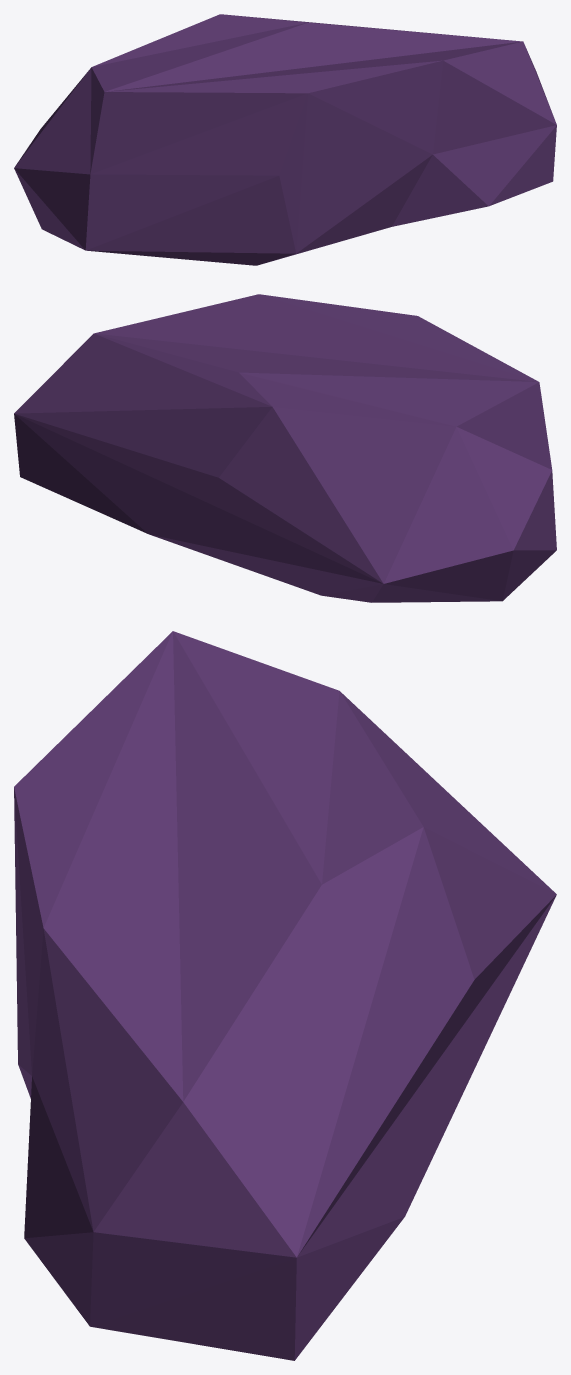
Rendered from Rock_13.fbx.
3 views of the same model, one above another, from view 1: azimuth 30°, elevation 25°; view 2: azimuth 150°, elevation 25°; view 3: azimuth 270°, elevation 25° (orthographic). The views are drawn at different scales.
Parts seen in each view (by area): view 1: rock_model.025; view 2: rock_model.025; view 3: rock_model.025.
Part boxes in pixels (x1,y1,x2,y2): rock_model.025: [14, 14, 556, 265]; rock_model.025: [14, 294, 556, 602]; rock_model.025: [14, 631, 556, 1360].
Bounding box in the file's own units: 356 × 125 × 185.
